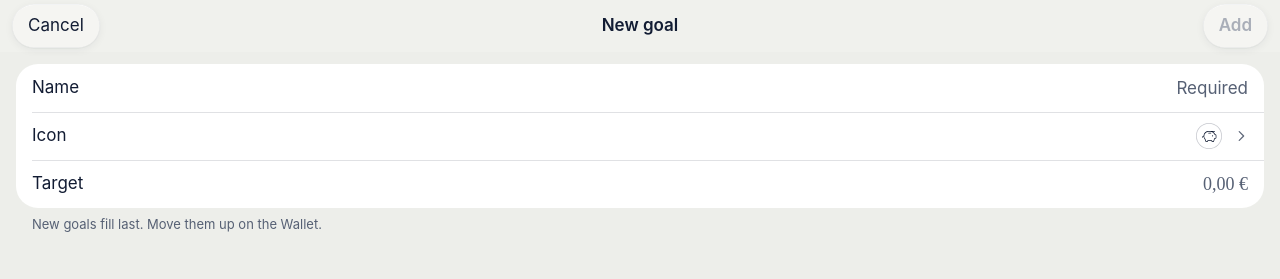
Test: a new goal (SPEC §3.14) › keeps names to 24 characters and needs a target above zero
The width and height of the screenshot is (1280, 279).
In the field labelled "Name": (807, 88) [366,66,1248,110], type "Bike"
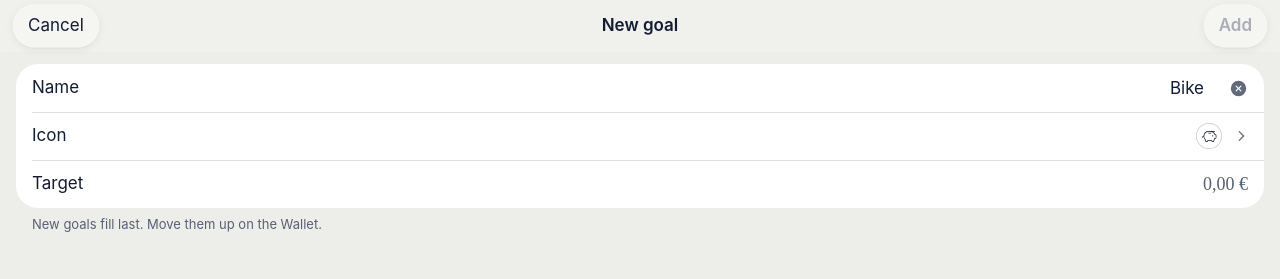
In the field labelled "Target": (1224, 184) [1201,162,1248,206], type "0"
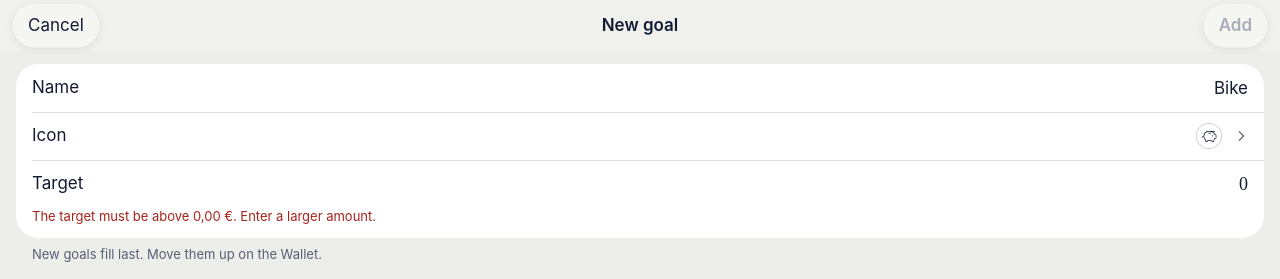
Check: the button with test id "sheet-save" is disabled, box [1203,4,1268,48]
Check: the text "The target must be above 0,00 €. Enter a larger amount." is shown, box [32,208,376,224]
